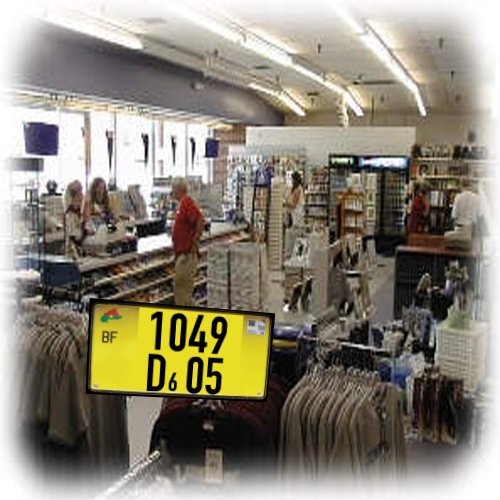plate: (81, 287, 287, 422)
